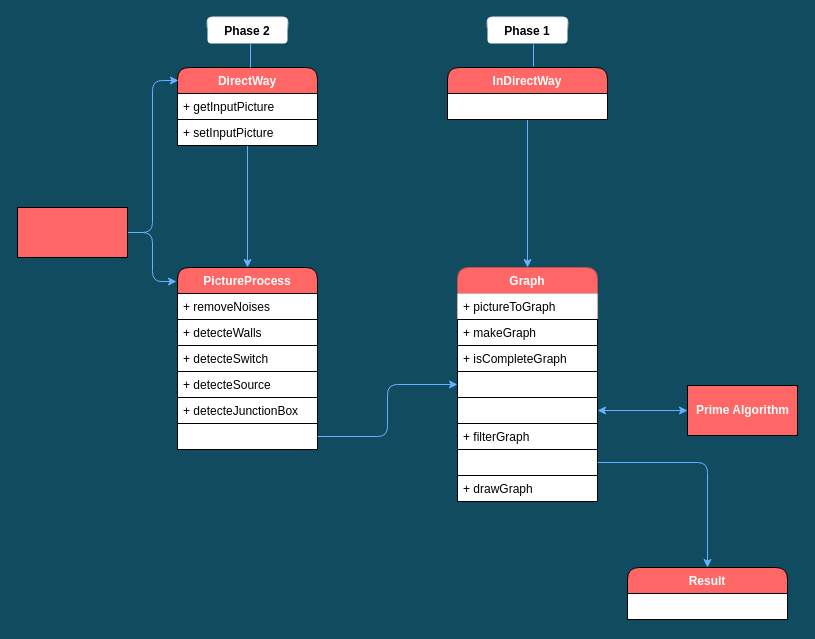
This 815x639 diagram has some shape labels left out. The shapes that lost their labels are listed below. From the top down, each one's centre as x and y in pixels, then its label:
At (x=527, y=106): "+ generateGraph".
At (x=72, y=232): "Picture class".
At (x=527, y=384): "+ setWeight".
At (x=527, y=410): "+ findOptimizedGraph".
At (x=247, y=436): "+ calculatePixels".
At (x=527, y=462): "+ getFinalGraph".
At (x=707, y=606): "+ representGraph".
